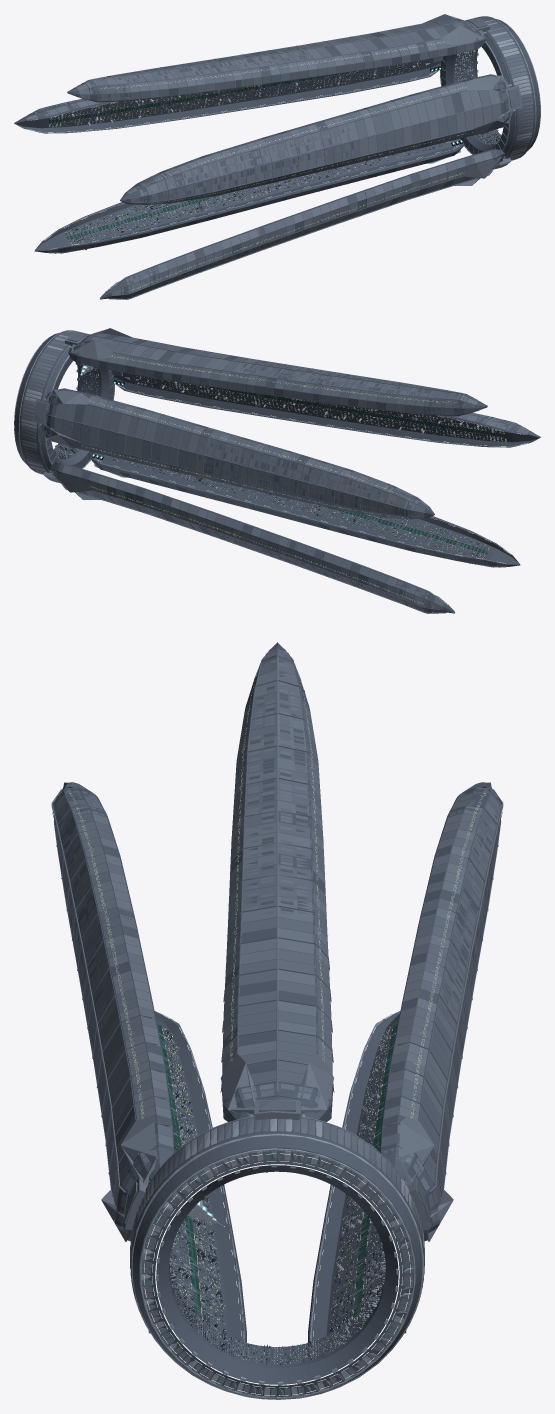
The model's file is citadel_space_station_far.glb.
The picture shows the model from 3 angles, top to bottom: view 1: azimuth 30°, elevation 25°; view 2: azimuth 150°, elevation 25°; view 3: azimuth 270°, elevation 25°; orthographic projection. The views are drawn at different scales.
Parts seen in each view (by area): view 1: CI 2 | Placas y rejillas exteriores, CI 1 | Placas y rejillas exteriores, CI 5 | Casco facetado continuo, CI 4 | Casco facetado continuo, CI 3 | Placas y rejillas exteriores, CI | Anillo estructural octogonal, CI 2 | Casco facetado continuo, CI 1 | Casco facetado continuo, CI 3 | Casco facetado continuo, CI | Segmentos de blindaje del Presidium, CI 4 | Bloques urbanos y torres, CI 4 | Placas y rejillas exteriores (+17 smaller); view 2: CI 5 | Placas y rejillas exteriores, CI 1 | Placas y rejillas exteriores, CI 2 | Casco facetado continuo, CI 3 | Casco facetado continuo, CI 4 | Placas y rejillas exteriores, CI | Anillo estructural octogonal, CI 5 | Casco facetado continuo, CI 1 | Casco facetado continuo, CI 4 | Casco facetado continuo, CI | Segmentos de blindaje del Presidium, CI 2 | Bloques urbanos y torres, CI 3 | Placas y rejillas exteriores (+17 smaller); view 3: CI 1 | Placas y rejillas exteriores, CI | Anillo estructural octogonal, CI 5 | Placas y rejillas exteriores, CI 2 | Placas y rejillas exteriores, CI | Segmentos de blindaje del Presidium, CI 4 | Casco facetado continuo, CI 3 | Casco facetado continuo, CI 1 | Casco facetado continuo, CI | Aros nervios y cinco acoplamientos, CI 5 | Casco facetado continuo, CI 2 | Casco facetado continuo, CI 1 | Quillas rebordes y puentes (+15 smaller).
Boxes of the visible parts, x1,y1,x2,y2 form: CI 2 | Placas y rejillas exteriores: (127, 75, 508, 204); CI 1 | Placas y rejillas exteriores: (75, 19, 481, 101); CI 5 | Casco facetado continuo: (14, 58, 441, 133); CI 4 | Casco facetado continuo: (34, 139, 464, 253); CI 3 | Placas y rejillas exteriores: (110, 151, 500, 298); CI | Anillo estructural octogonal: (440, 16, 540, 159); CI 2 | Casco facetado continuo: (120, 74, 513, 205); CI 1 | Casco facetado continuo: (67, 19, 486, 102); CI 3 | Casco facetado continuo: (100, 149, 504, 299); CI | Segmentos de blindaje del Presidium: (465, 16, 533, 169); CI 4 | Bloques urbanos y torres: (65, 143, 441, 243); CI 4 | Placas y rejillas exteriores: (46, 151, 457, 253); CI 5 | Placas y rejillas exteriores: (46, 389, 427, 518); CI 1 | Placas y rejillas exteriores: (73, 333, 479, 415); CI 2 | Casco facetado continuo: (114, 372, 540, 447); CI 3 | Casco facetado continuo: (90, 453, 520, 567); CI 4 | Placas y rejillas exteriores: (54, 465, 444, 612); CI | Anillo estructural octogonal: (14, 330, 114, 473); CI 5 | Casco facetado continuo: (41, 388, 434, 519); CI 1 | Casco facetado continuo: (68, 333, 487, 416); CI 4 | Casco facetado continuo: (50, 463, 454, 613); CI | Segmentos de blindaje del Presidium: (21, 330, 89, 483); CI 2 | Bloques urbanos y torres: (133, 374, 506, 441); CI 3 | Placas y rejillas exteriores: (97, 465, 508, 567); CI 1 | Placas y rejillas exteriores: (222, 649, 332, 1116); CI | Anillo estructural octogonal: (130, 1117, 424, 1398); CI 5 | Placas y rejillas exteriores: (381, 783, 502, 1231); CI 2 | Placas y rejillas exteriores: (52, 783, 173, 1231); CI | Segmentos de blindaje del Presidium: (124, 1100, 430, 1397); CI 4 | Casco facetado continuo: (308, 1011, 400, 1342); CI 3 | Casco facetado continuo: (154, 1011, 246, 1342); CI 1 | Casco facetado continuo: (222, 642, 332, 1121); CI | Aros nervios y cinco acoplamientos: (125, 1099, 430, 1399); CI 5 | Casco facetado continuo: (380, 782, 501, 1240); CI 2 | Casco facetado continuo: (53, 782, 174, 1240); CI 1 | Quillas rebordes y puentes: (228, 647, 326, 1092).
Size of the model in its own units: 277 by 118 by 123.
